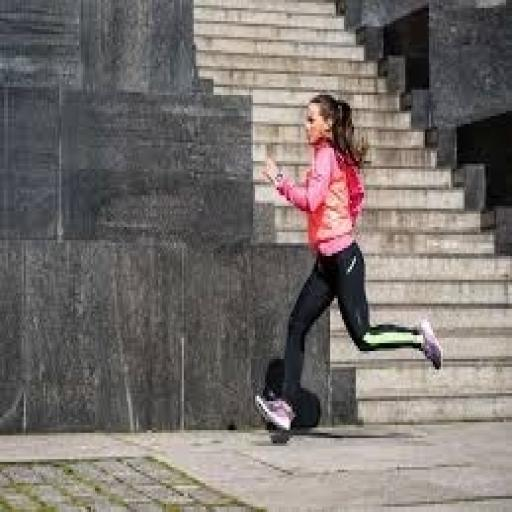running: (253, 90, 447, 438)
